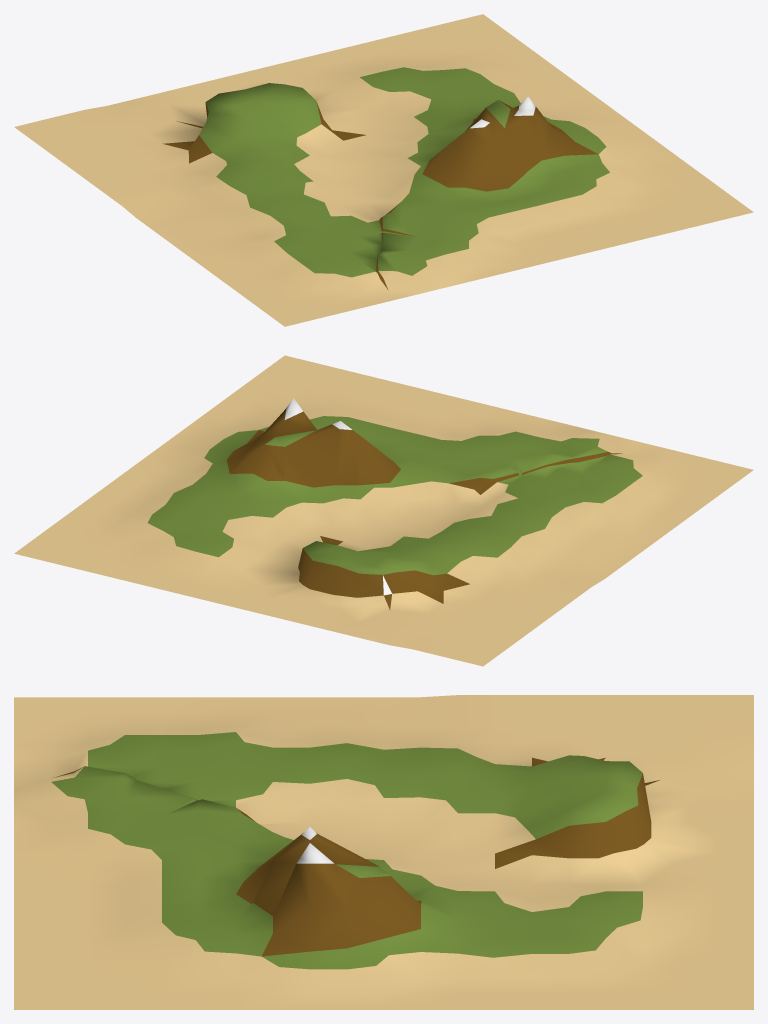
File: island1.FBX
The picture shows the model from 3 angles, top to bottom: view 1: azimuth 30°, elevation 25°; view 2: azimuth 150°, elevation 25°; view 3: azimuth 270°, elevation 25°; orthographic projection. The views are drawn at different scales.
Visible parts, largest first — view 1: Plane003; view 2: Plane003; view 3: Plane003.
Part boxes in pixels (x1=…): Plane003: x1=14, y1=14, x2=753, y2=326; Plane003: x1=14, y1=355, x2=753, y2=666; Plane003: x1=14, y1=695, x2=753, y2=1009.
Bounding box in the file's own units: 20 × 2.86 × 20.
